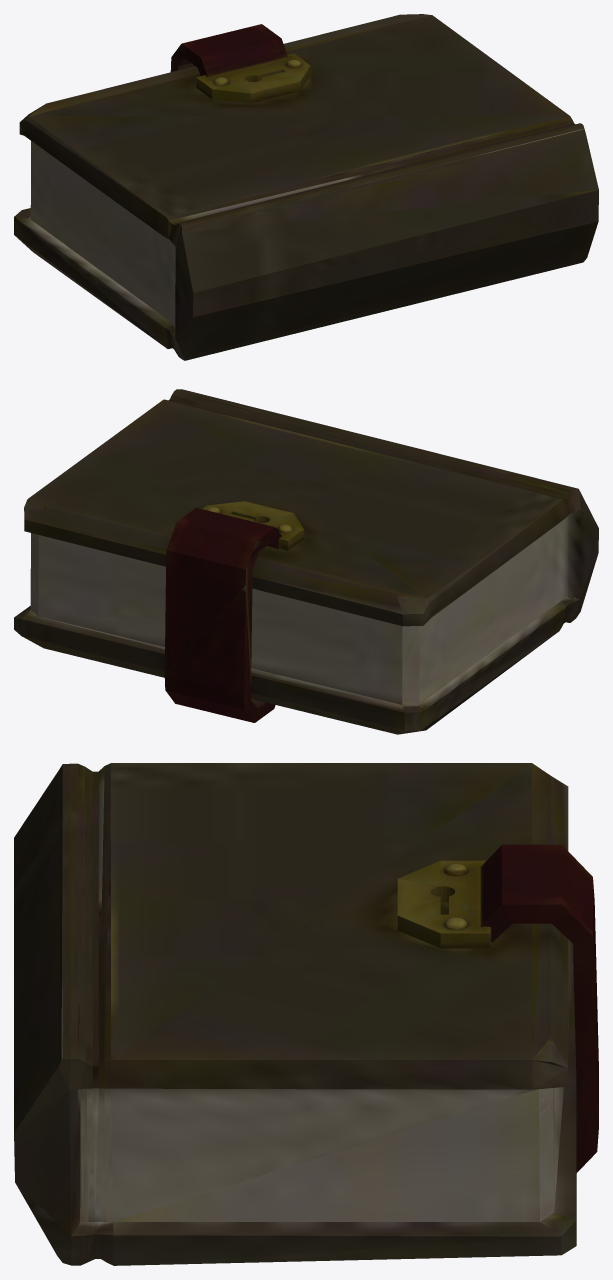
File: diary_closed.glb
3 views of the same model, one above another, from view 1: azimuth 30°, elevation 25°; view 2: azimuth 150°, elevation 25°; view 3: azimuth 270°, elevation 25° (orthographic). The views are drawn at different scales.
Parts seen in each view (by area): view 1: tripo_node_2d047e4c-b1d3-45f0-aee4-32ecaee7752a; view 2: tripo_node_2d047e4c-b1d3-45f0-aee4-32ecaee7752a; view 3: tripo_node_2d047e4c-b1d3-45f0-aee4-32ecaee7752a.
Part boxes in pixels (<box>): tripo_node_2d047e4c-b1d3-45f0-aee4-32ecaee7752a: <box>14,14,598,360</box>; tripo_node_2d047e4c-b1d3-45f0-aee4-32ecaee7752a: <box>14,389,598,734</box>; tripo_node_2d047e4c-b1d3-45f0-aee4-32ecaee7752a: <box>14,763,598,1265</box>.
Size of the model in its own units: 0.9995 by 0.4233 by 0.8032.
Materials: 1 (1 with a texture image).
